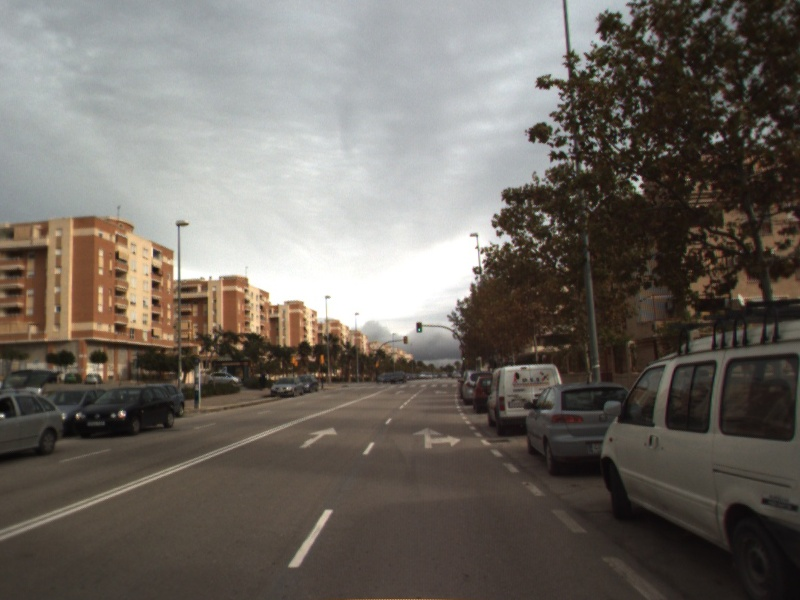STRAIGHT: (297, 425, 339, 450)
STRAIGHT_RIGHT: (411, 425, 462, 450)
